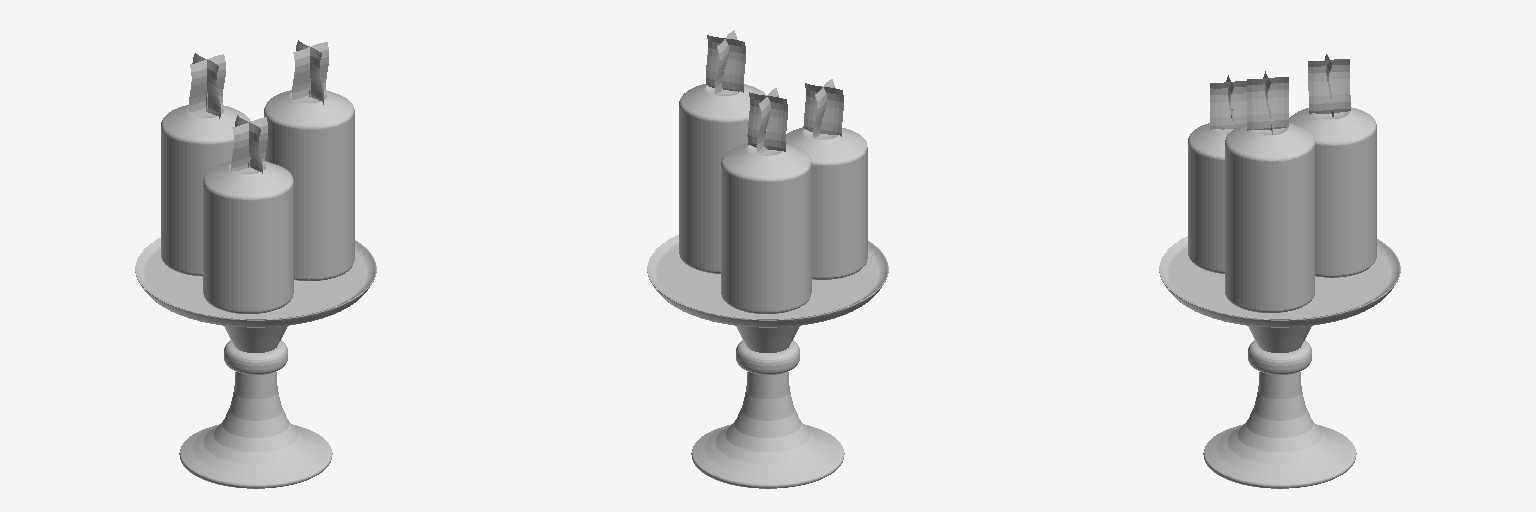
Rendered from candles_obj.obj.
3 views of the same model, side by side, from view 1: azimuth 30°, elevation 25°; view 2: azimuth 150°, elevation 25°; view 3: azimuth 270°, elevation 25° (orthographic).
Parts seen in each view (by area): view 1: Line13141, Line13140, Line13133, Line13138, Plane1025, Plane1027, Plane1024, Plane1026, Plane1028, Plane1015; view 2: Line13141, Line13138, Line13140, Line13133, Plane1025, Plane1027, Plane1024; view 3: Line13141, Line13140, Line13138, Line13133, Plane1026, Plane1028, Plane1015.
Part boxes in pixels (left/top/right/bottom): Line13141: left=135, top=238, right=376, bottom=488; Line13140: left=264, top=90, right=354, bottom=280; Line13133: left=203, top=161, right=293, bottom=313; Line13138: left=161, top=105, right=250, bottom=276; Plane1025: left=188, top=54, right=225, bottom=116; Plane1027: left=292, top=42, right=328, bottom=101; Plane1024: left=231, top=117, right=267, bottom=171; Plane1026: left=192, top=53, right=220, bottom=118; Plane1028: left=296, top=40, right=323, bottom=104; Plane1015: left=235, top=115, right=262, bottom=173; Line13141: left=647, top=235, right=888, bottom=488; Line13138: left=721, top=143, right=811, bottom=313; Line13140: left=679, top=84, right=766, bottom=273; Line13133: left=786, top=127, right=867, bottom=279; Plane1025: left=747, top=92, right=787, bottom=151; Plane1027: left=706, top=35, right=745, bottom=92; Plane1024: left=803, top=83, right=843, bottom=136; Line13141: left=1159, top=236, right=1400, bottom=488; Line13140: left=1225, top=123, right=1314, bottom=312; Line13138: left=1289, top=107, right=1376, bottom=277; Line13133: left=1188, top=123, right=1233, bottom=273; Plane1026: left=1308, top=59, right=1350, bottom=113; Plane1028: left=1247, top=77, right=1288, bottom=130; Plane1015: left=1210, top=81, right=1246, bottom=129.
Bounding box in the file's own units: 181 × 333 × 181.